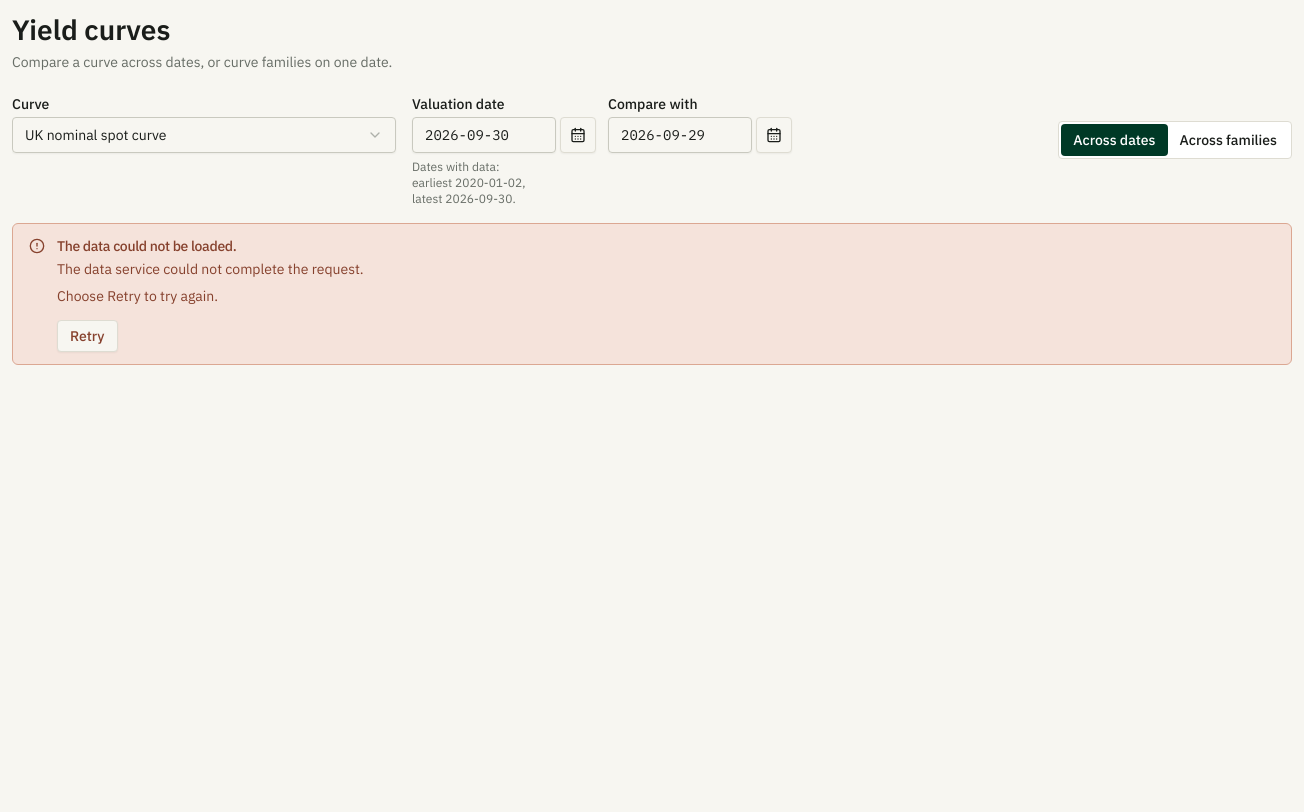
Epic overview-and-yield-curves, Story 3: Yield curves across dates › shows a persistent error with Retry when the chart data cannot load, and Retry reloads it
Check: the text "The data service could not complete the request." is shown, box [57,258,364,281]
Click the button "Retry": point(87, 336) [57,320,118,352]
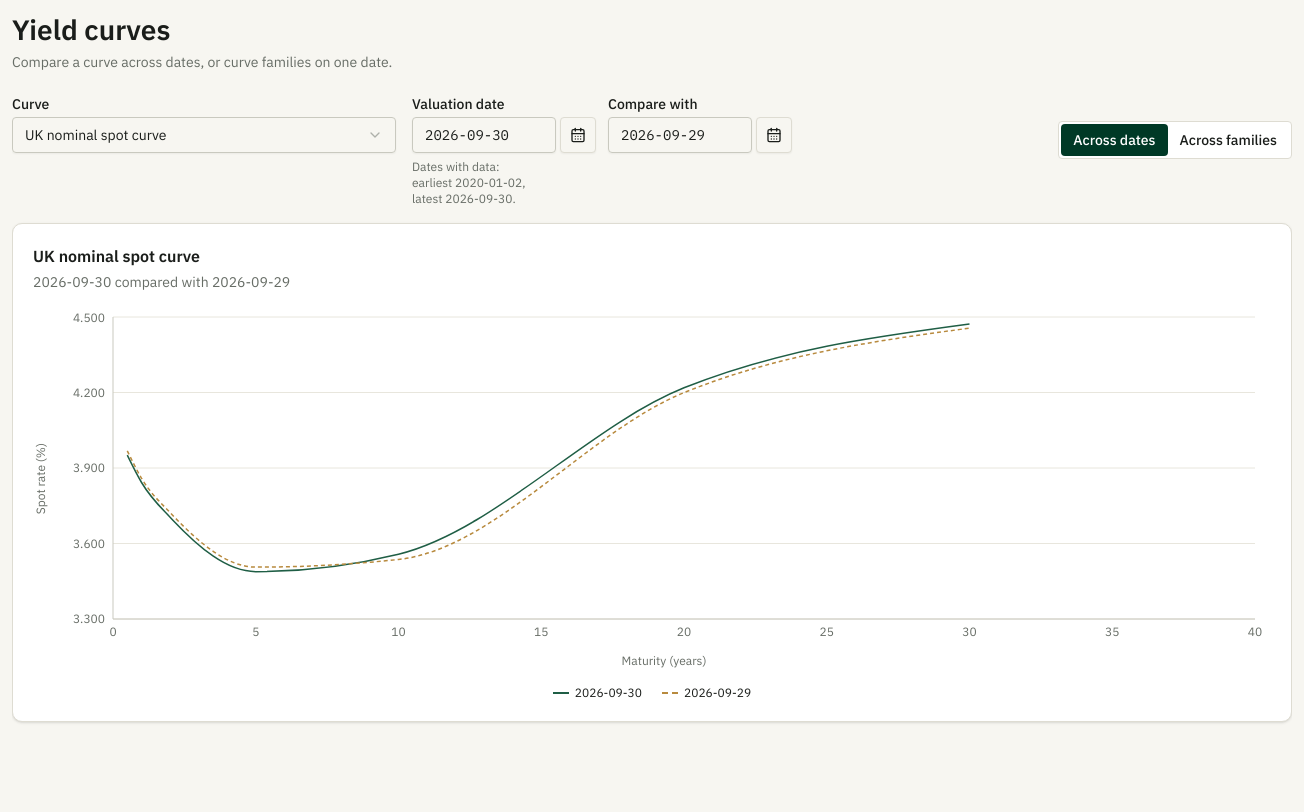
Check: the message is gone
